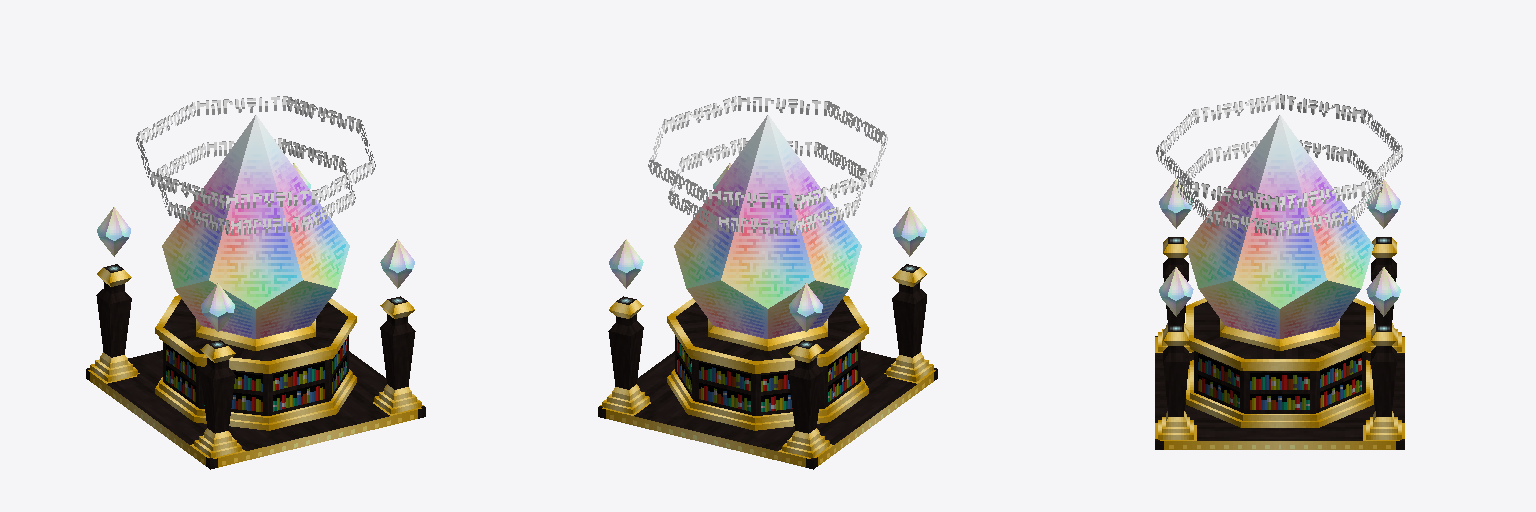
3 views of the same model, side by side, from view 1: azimuth 30°, elevation 25°; view 2: azimuth 150°, elevation 25°; view 3: azimuth 270°, elevation 25° (orthographic).
Visible parts, largest first — view 1: CornerCrystal005, Pedestal, Base, CrystalRing003, CornerPillar04, CornerPillar01, CornerPillar03, CrystalRing01, MainCrystalBrace, CornerCrystal01, CornerCrystal04, CornerCrystal03; view 2: CornerCrystal005, Pedestal, Base, CrystalRing003, CornerPillar01, CornerPillar04, CornerPillar02, CrystalRing01, MainCrystalBrace, CornerCrystal04, CornerCrystal01, CornerCrystal02; view 3: CornerCrystal005, Pedestal, Base, CrystalRing003, CrystalRing01, CornerPillar02, CornerPillar03, MainCrystalBrace, CornerPillar01, CornerPillar04, CornerCrystal02, CornerCrystal03 (+2 smaller).
Boxes of the visible parts, x1,y1,x2,y2 form: CornerCrystal005: [162, 115, 349, 338]; Pedestal: [155, 295, 356, 430]; Base: [86, 350, 425, 469]; CrystalRing003: [136, 96, 375, 209]; CornerPillar04: [194, 340, 241, 457]; CornerPillar01: [90, 264, 137, 381]; CornerPillar03: [374, 296, 421, 413]; CrystalRing01: [156, 138, 355, 234]; MainCrystalBrace: [196, 319, 315, 350]; CornerCrystal01: [97, 207, 130, 256]; CornerCrystal04: [201, 283, 234, 331]; CornerCrystal03: [380, 239, 414, 288]; CornerCrystal005: [674, 115, 861, 338]; Pedestal: [667, 295, 868, 430]; Base: [598, 350, 937, 469]; CrystalRing003: [648, 96, 887, 209]; CornerPillar01: [782, 340, 829, 457]; CornerPillar04: [886, 264, 933, 381]; CornerPillar02: [602, 296, 649, 413]; CrystalRing01: [668, 138, 867, 234]; MainCrystalBrace: [708, 319, 827, 350]; CornerCrystal04: [893, 207, 926, 256]; CornerCrystal01: [789, 283, 822, 331]; CornerCrystal02: [609, 239, 643, 288]; CornerCrystal005: [1186, 115, 1373, 338]; Pedestal: [1186, 298, 1373, 427]; Base: [1155, 336, 1404, 449]; CrystalRing003: [1156, 94, 1402, 210]; CrystalRing01: [1176, 140, 1382, 235]; CornerPillar02: [1366, 325, 1401, 439]; CornerPillar03: [1158, 325, 1193, 439]; MainCrystalBrace: [1220, 319, 1339, 350]; CornerPillar01: [1366, 237, 1401, 351]; CornerPillar04: [1158, 237, 1193, 351]; CornerCrystal02: [1366, 267, 1400, 316]; CornerCrystal03: [1159, 267, 1193, 316].
Size of the model in its own units: 2.95 by 3.7 by 2.95.
Materials: 5 (5 with a texture image).